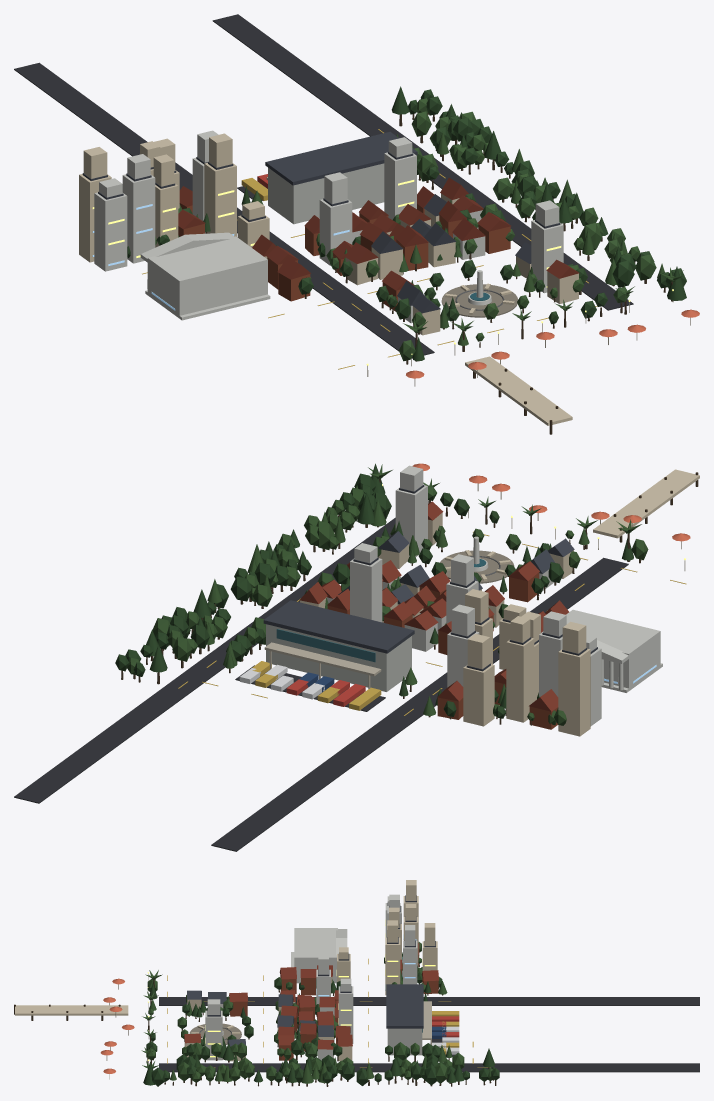
The model's file is maquette-ville-5.glb.
3 views of the same model, one above another, from view 1: azimuth 30°, elevation 25°; view 2: azimuth 150°, elevation 25°; view 3: azimuth 270°, elevation 25° (orthographic). The views are drawn at different scales.
Parts seen in each view (by area): view 1: civic_body_1, rue_x6, rue_x5, halle_commerciale, toiture_supermarche, tower_shaft_89, tower_shaft_91, ponton_2, tower_shaft_96, tower_shaft_108, tower_shaft_109, tower_shaft_107 (+11 smaller); view 2: rue_x5, rue_x6, toiture_supermarche, halle_commerciale, civic_body_1, tower_shaft_88, tower_shaft_92, ponton_2, tower_shaft_108, tower_shaft_94, tower_shaft_109, tower_shaft_91 (+10 smaller); view 3: rue_x5, rue_x6, toiture_supermarche, civic_body_1, ponton_2, halle_commerciale, tower_shaft_96, tower_shaft_109, tower_shaft_108, tower_shaft_95, tower_shaft_94, tower_shaft_107 (+1 smaller).
Part boxes in pixels (<box>): civic_body_1: <box>147,236,267,315</box>; rue_x6: <box>212,14,633,310</box>; rue_x5: <box>14,62,434,358</box>; halle_commerciale: <box>268,163,384,224</box>; toiture_supermarche: <box>265,131,417,185</box>; tower_shaft_89: <box>94,192,127,271</box>; tower_shaft_91: <box>122,174,155,263</box>; ponton_2: <box>465,356,572,425</box>; tower_shaft_96: <box>204,162,236,236</box>; tower_shaft_108: <box>384,152,416,219</box>; tower_shaft_109: <box>531,220,563,293</box>; tower_shaft_107: <box>319,199,352,265</box>; rue_x5: <box>211,557,628,851</box>; rue_x6: <box>14,517,395,803</box>; toiture_supermarche: <box>263,600,414,653</box>; halle_commerciale: <box>266,624,411,691</box>; civic_body_1: <box>541,609,660,688</box>; tower_shaft_88: <box>558,648,590,736</box>; tower_shaft_92: <box>506,638,534,722</box>; ponton_2: <box>593,469,699,538</box>; tower_shaft_108: <box>350,558,382,622</box>; tower_shaft_94: <box>463,664,494,726</box>; tower_shaft_109: <box>395,485,427,556</box>; tower_shaft_91: <box>539,632,562,696</box>; rue_x5: <box>159,997,699,1005</box>; rue_x6: <box>159,1063,699,1072</box>; toiture_supermarche: <box>386,984,423,1028</box>; civic_body_1: <box>294,928,337,981</box>; ponton_2: <box>15,1005,128,1015</box>; halle_commerciale: <box>387,1028,422,1055</box>; tower_shaft_96: <box>385,937,400,995</box>; tower_shaft_109: <box>205,1010,222,1060</box>; tower_shaft_108: <box>338,986,353,1043</box>; tower_shaft_95: <box>403,941,417,984</box>; tower_shaft_94: <box>422,941,437,970</box>; tower_shaft_107: <box>316,969,330,1016</box>.
Bounding box in the file's own units: 75.26 × 19.27 × 157.
